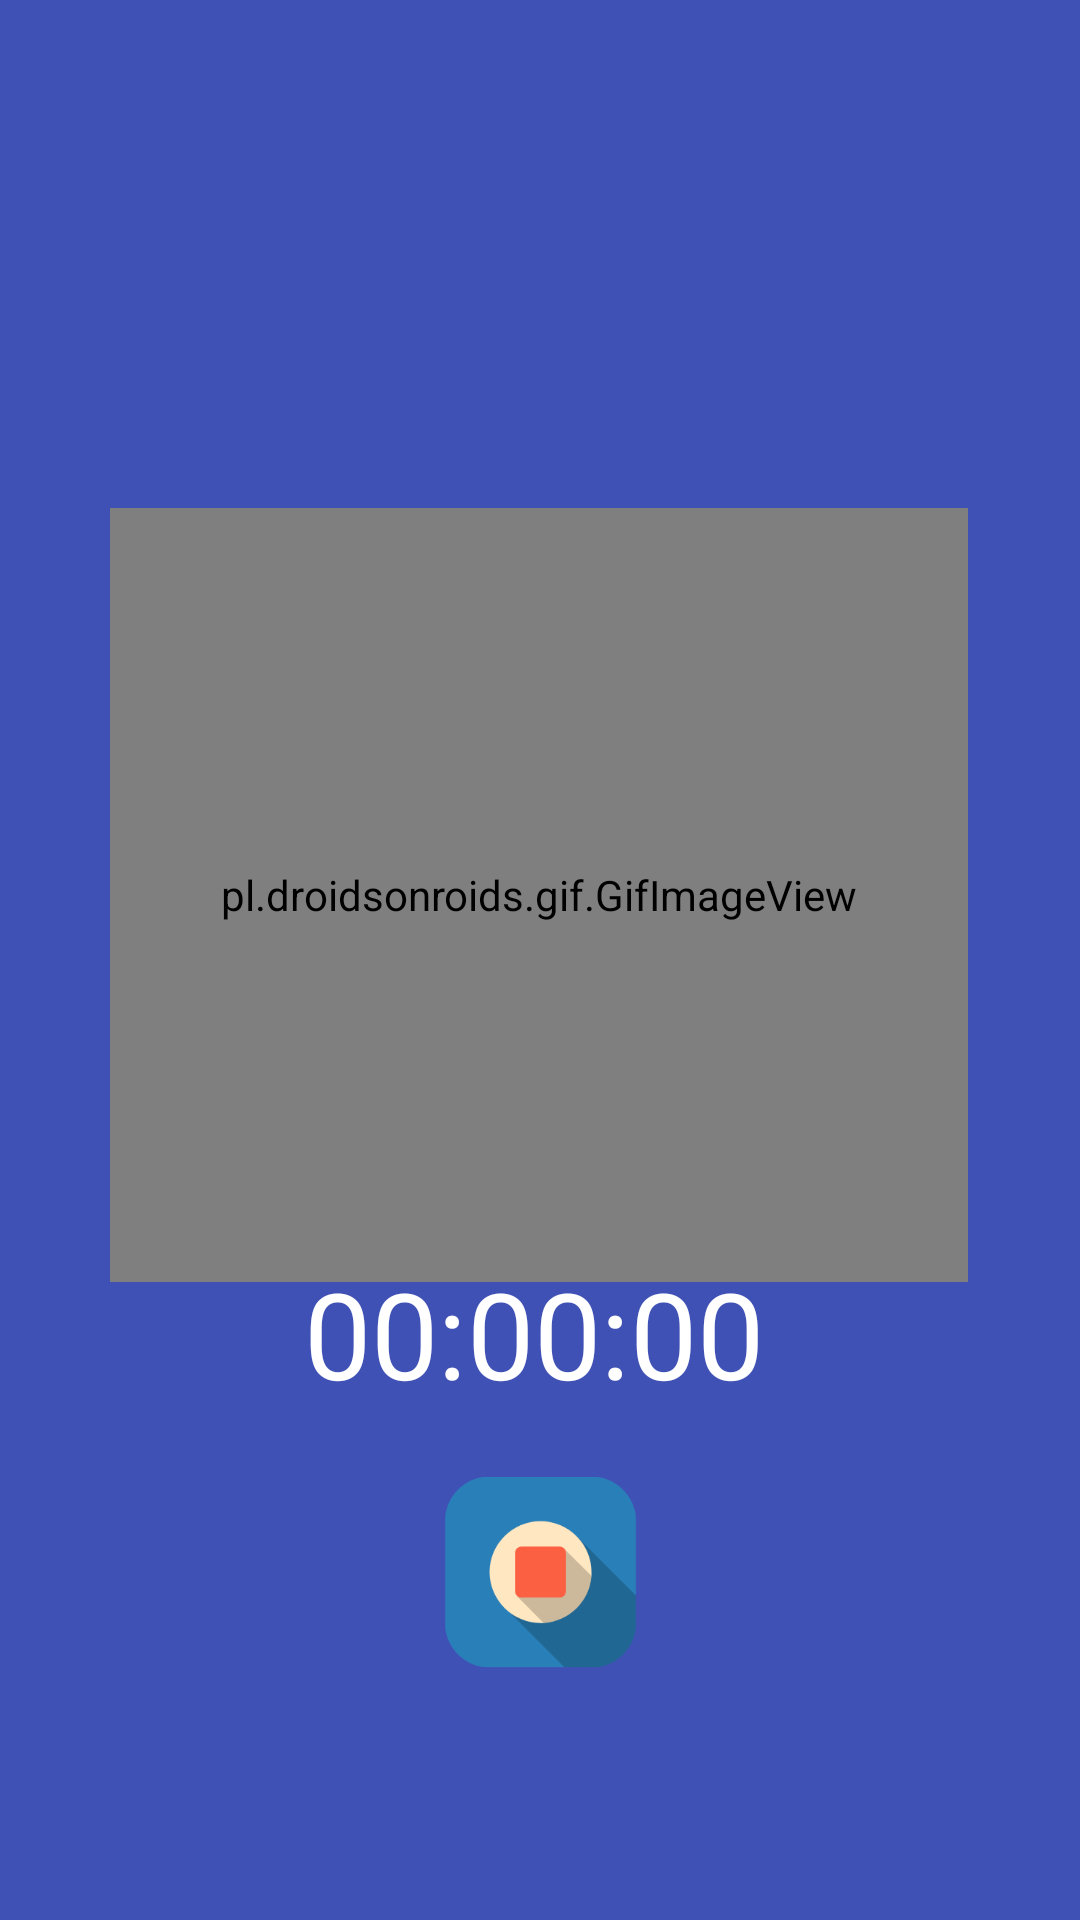

Where icons sit on this 1080w x 1920h app screen, as bbox(x1, y1, x2, y2):
stop: bbox(445, 1477, 636, 1667)
